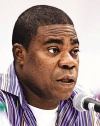male: (13, 11, 83, 104)
